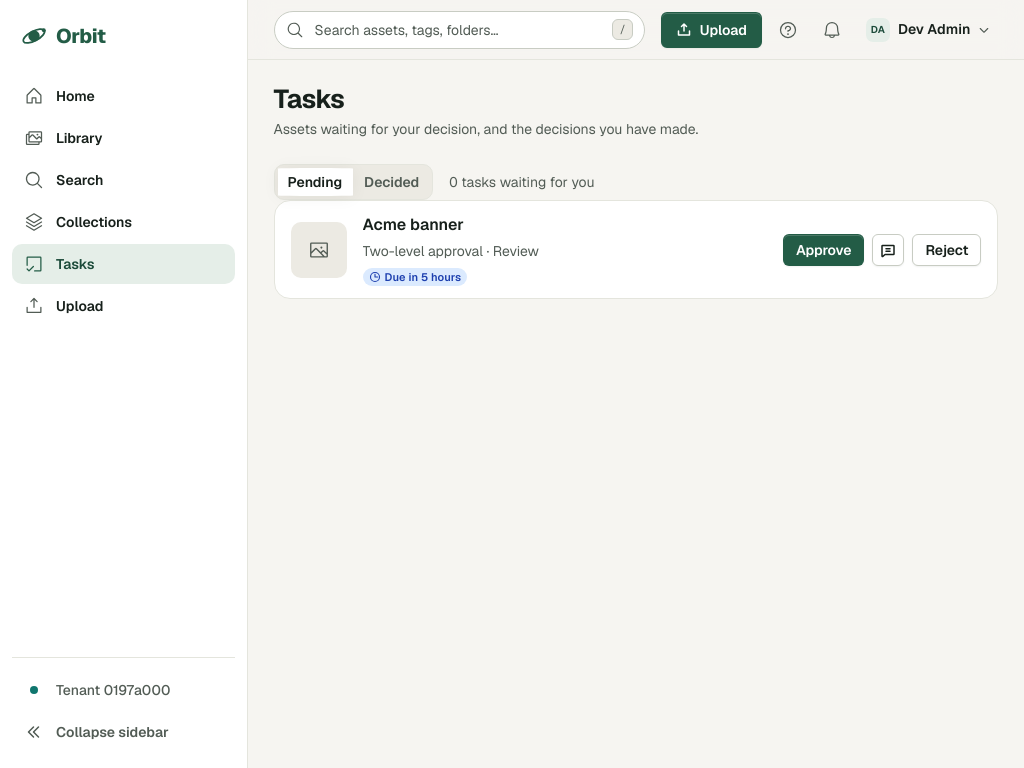
Test case: Tasks inbox - decided and everyone › switches between Pending and Decided with the segmented control
Expected: the link "Acme banner" is shown, [363,214,464,235]
Click the button "Decided" at (392, 182), box [354,168,429,196]
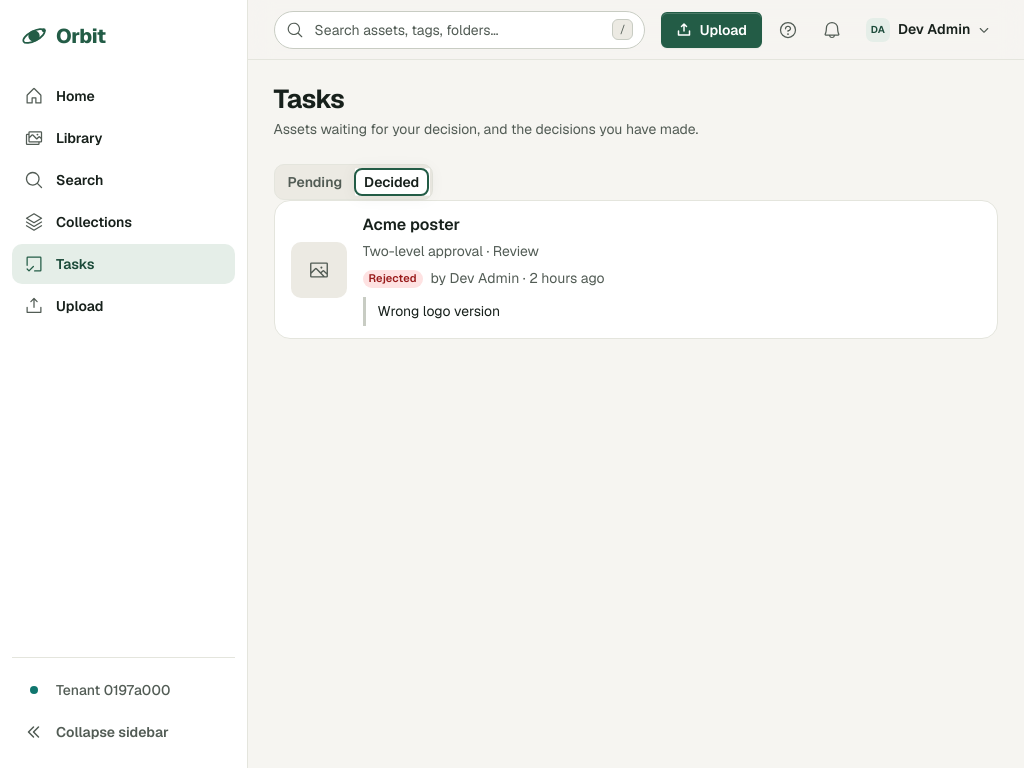
Expected: the link "Acme poster" is shown, [363,214,460,235]
Click the button "Pending" at (315, 182), box [278,168,352,196]
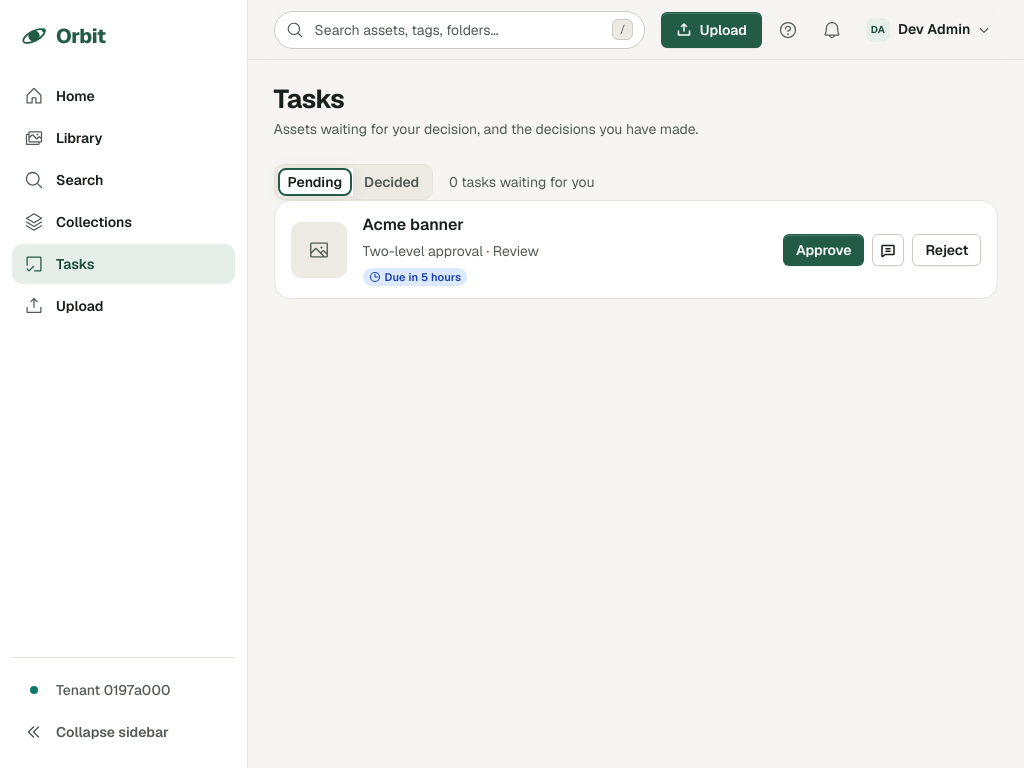
Expected: the link "Acme banner" is shown, [363,214,464,235]
